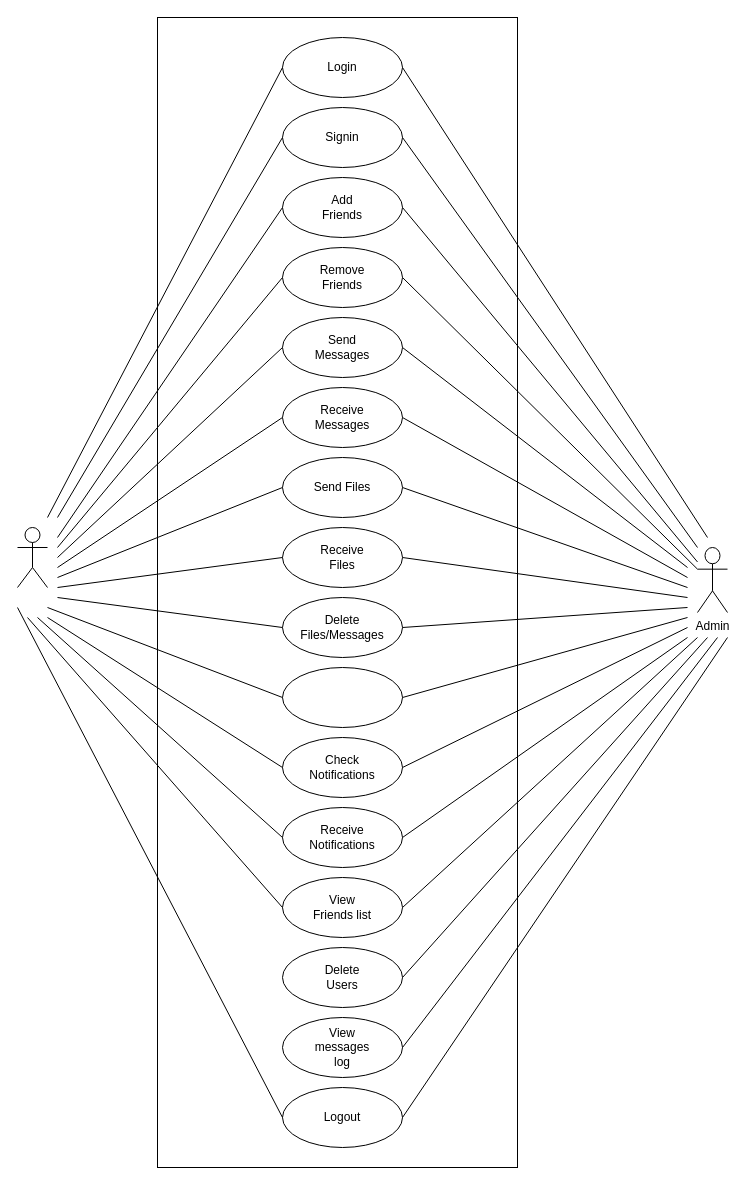
Some shapes in this 747 by 1185 pixel diagram are drawn without their labels. The shapes that lost their labels are listed below. From the top down, each one's centre as x and y in pixels, then its label:
At point 32,557: "User".
At point 342,697: "Update Profile".
